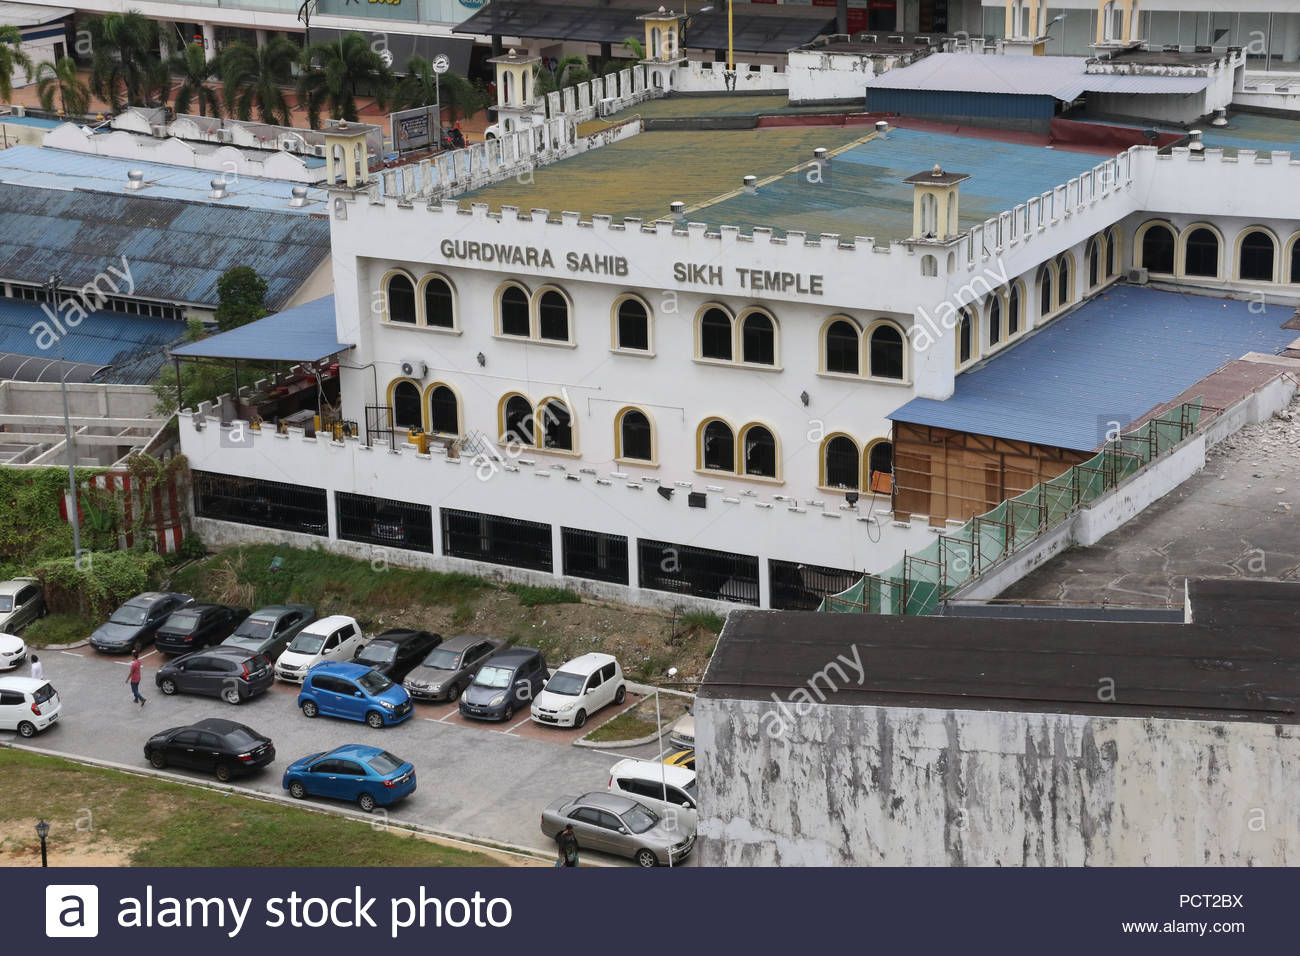Gurdwara: (260, 60, 992, 537)
